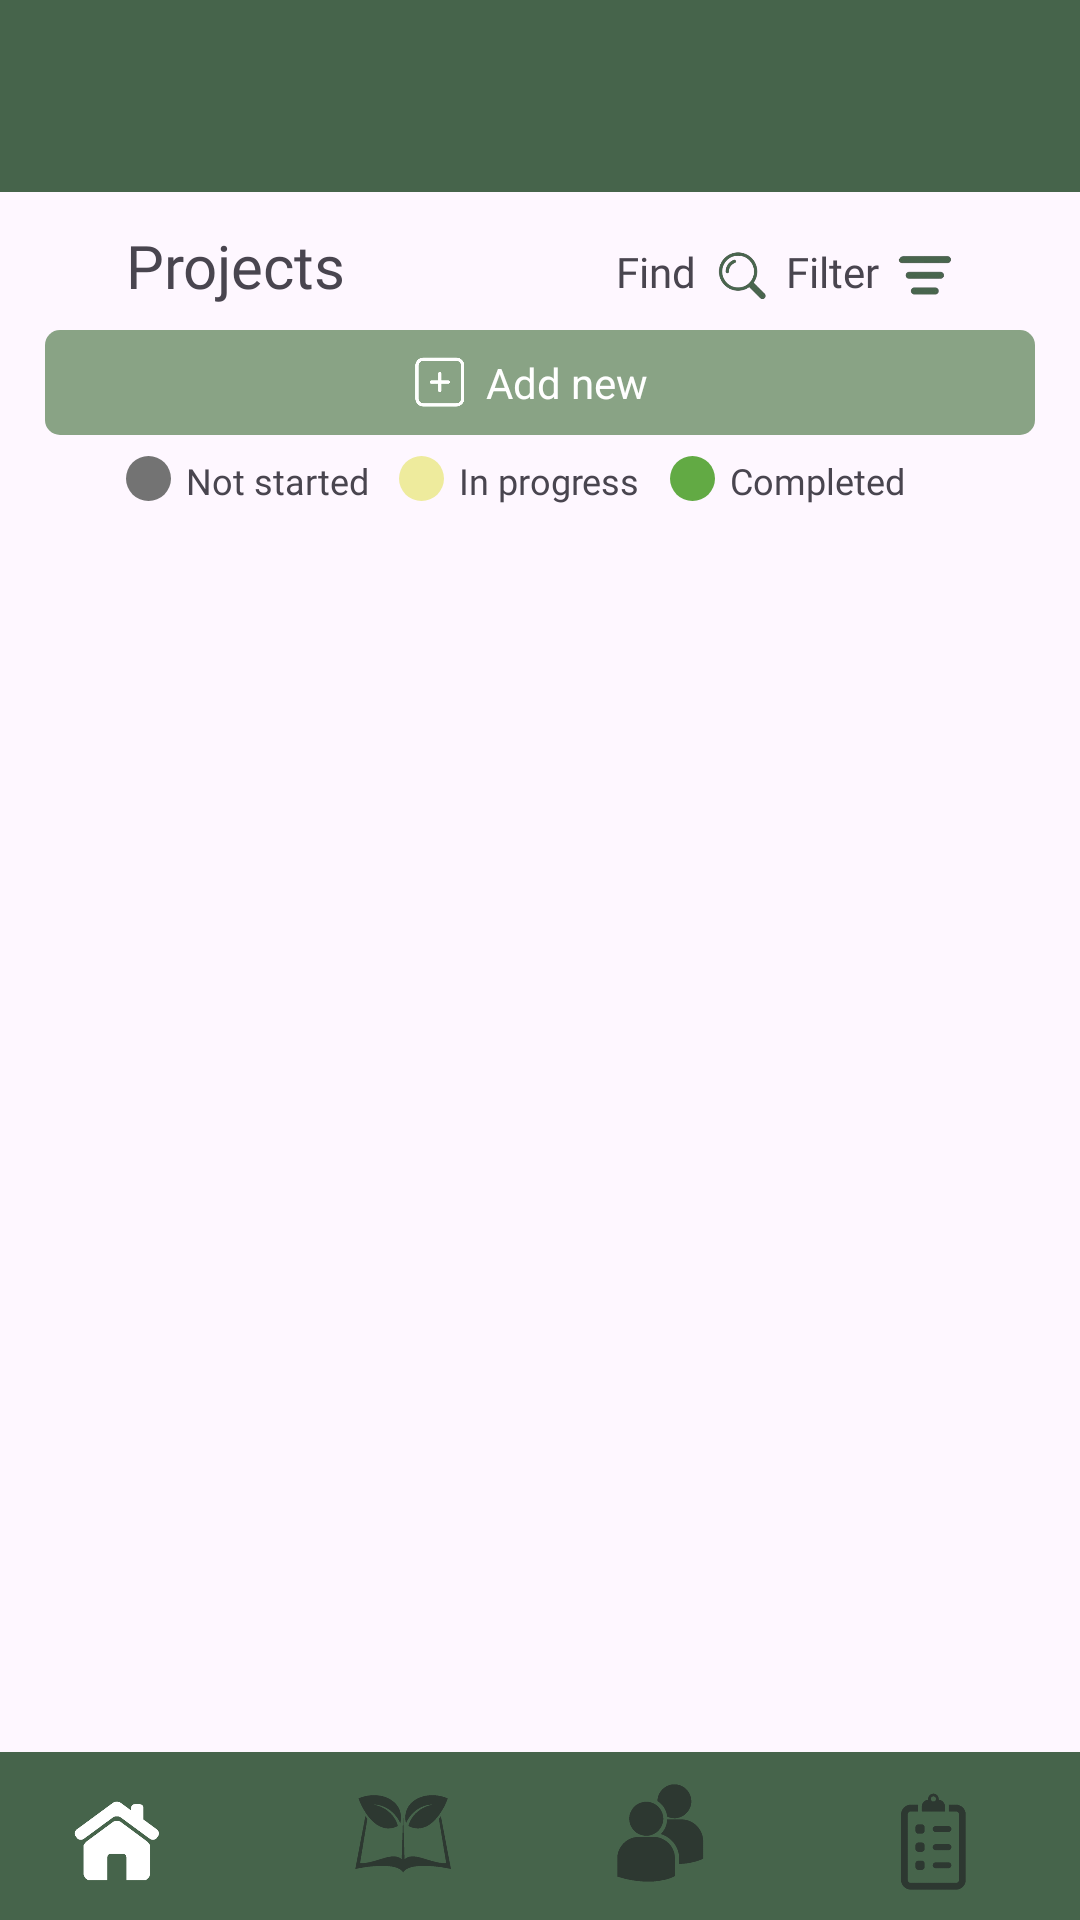

Locate icon controls on the screen. Image size 1080 × 1920, boxes as bbox=(x1, y1, x2, y2).
collab search: bbox=(719, 252, 766, 299)
